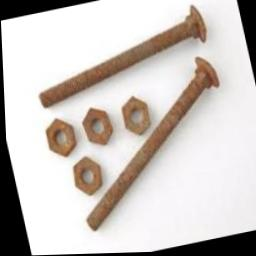Corroded-Bolt: (85, 58, 219, 233), (38, 7, 207, 109)
Corroded-Nut: (45, 119, 76, 156), (81, 109, 112, 145), (121, 97, 150, 135), (72, 158, 100, 195)
